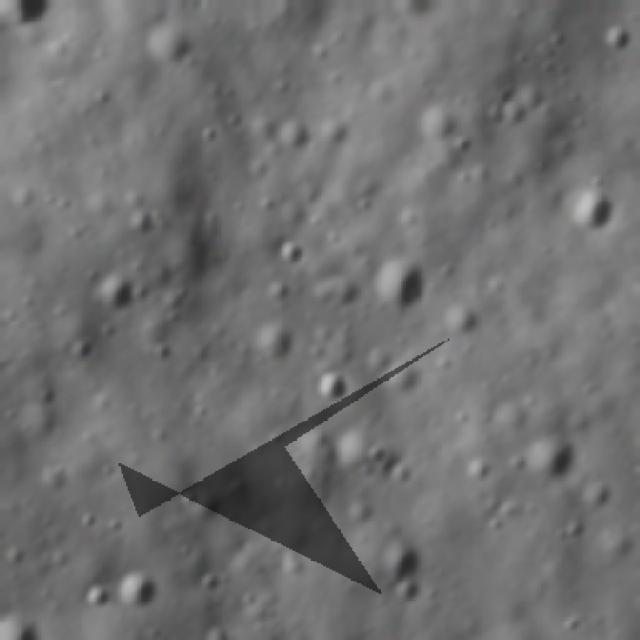crater: (372, 246, 432, 308), (111, 562, 172, 610), (148, 12, 203, 62), (532, 426, 580, 482), (249, 318, 302, 368), (92, 264, 139, 314), (570, 185, 618, 232), (376, 542, 429, 582), (376, 447, 427, 487), (75, 573, 114, 616), (275, 106, 311, 152), (316, 358, 356, 398), (129, 204, 166, 241), (0, 610, 43, 638), (281, 232, 308, 262), (70, 336, 98, 362)
